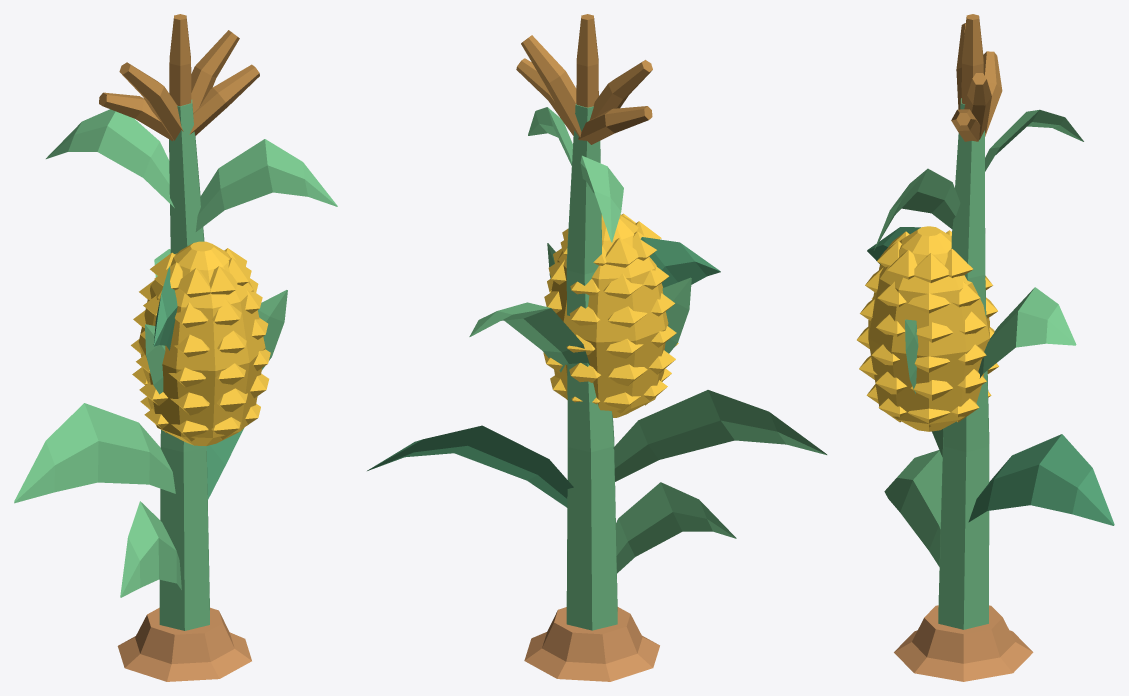
Rendered from 10-corn.glb.
3 renders of one model, left to right at view 1: azimuth 30°, elevation 25°; view 2: azimuth 150°, elevation 25°; view 3: azimuth 270°, elevation 25°, orthographic.
Parts seen in each view (by area): view 1: 10-corn_Body; view 2: 10-corn_Body; view 3: 10-corn_Body.
Boxes of the visible parts, bbox=[...] form: 10-corn_Body: bbox=[14, 14, 337, 681]; 10-corn_Body: bbox=[367, 14, 827, 681]; 10-corn_Body: bbox=[857, 14, 1114, 681].
Bounding box in the file's own units: 0.5156 × 0.8904 × 0.3278.
1 material, 1 textured.
